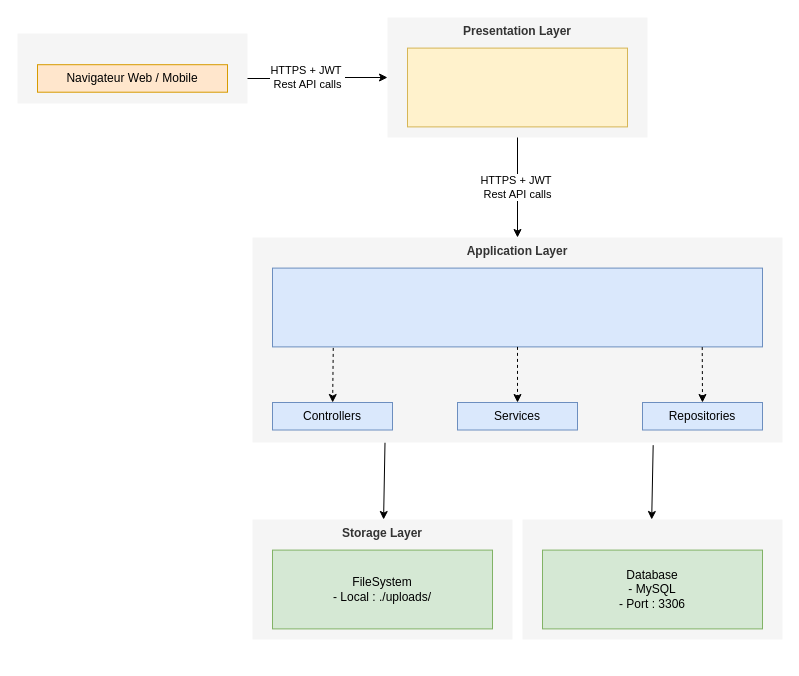
The diagram is 799 pixels wide and 676 high, and some of its shapes have lost their labels. The box of each missing label's shape, as (x1, y1, x2, y2) in pixels:
Backend API Server - Port : 3000 - Protocol : HTTP/HTTPS - Format : JSON: (272, 267, 762, 347)
Client Layer: (17, 33, 247, 103)
Data Layer: (522, 519, 782, 639)
Frontend SPA - Serveur web - Port : 80 / 443 - Assets : HTML, CSS, JS, Images: (406, 47, 628, 127)
